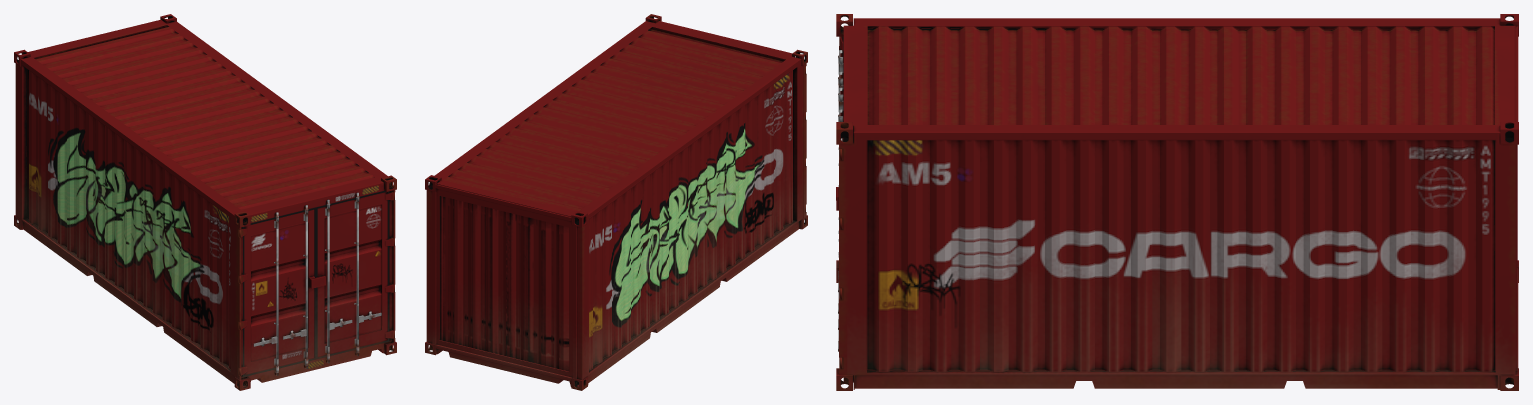
Rendered from contenedor.glb.
3 renders of one model, left to right at view 1: azimuth 30°, elevation 25°; view 2: azimuth 150°, elevation 25°; view 3: azimuth 270°, elevation 25°, orthographic. The views are drawn at different scales.
Parts seen in each view (by area): view 1: Cube.085; view 2: Cube.085; view 3: Cube.085.
Boxes of the visible parts, x1,y1,x2,y2 form: Cube.085: (14, 14, 396, 390); Cube.085: (425, 14, 807, 390); Cube.085: (836, 14, 1518, 390).
Bounding box in the file's own units: 1.13 × 1.2 × 2.83.
1 material, 1 textured.
